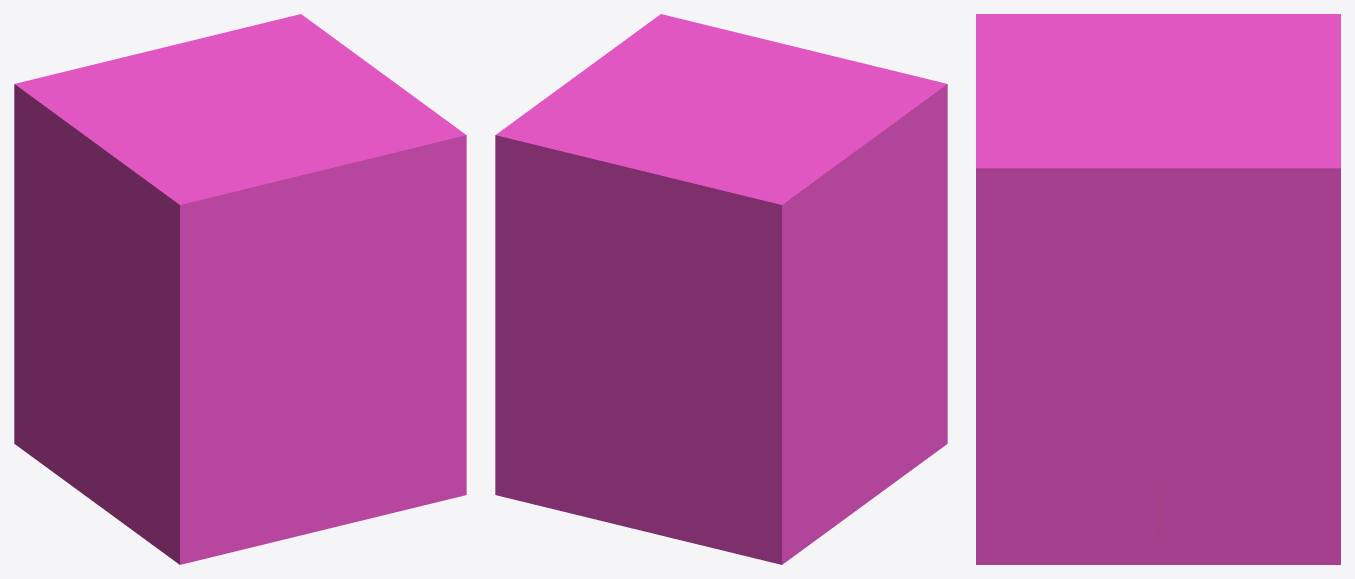
File: tesla_tower.glb
3 views of the same model, side by side, from view 1: azimuth 30°, elevation 25°; view 2: azimuth 150°, elevation 25°; view 3: azimuth 270°, elevation 25° (orthographic). The views are drawn at different scales.
Visible parts, largest first — view 1: COL_BOX_BODY; view 2: COL_BOX_BODY; view 3: COL_BOX_BODY.
Part boxes in pixels (x1=…): COL_BOX_BODY: x1=14, y1=14, x2=466, y2=564; COL_BOX_BODY: x1=495, y1=14, x2=947, y2=564; COL_BOX_BODY: x1=976, y1=14, x2=1340, y2=564.
Bounding box in the file's own units: 1.2 × 1.44 × 1.2.
